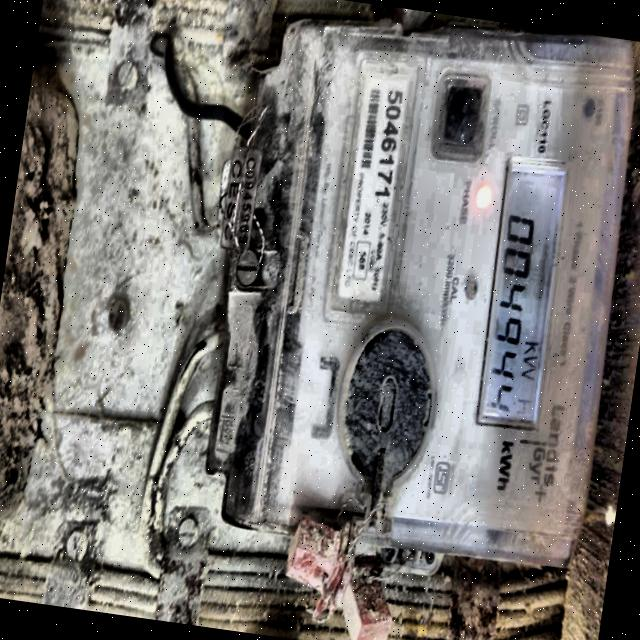Digital: (189, 0, 638, 567)
Reading: (481, 200, 538, 418)
Serial No.: (370, 82, 405, 202)
